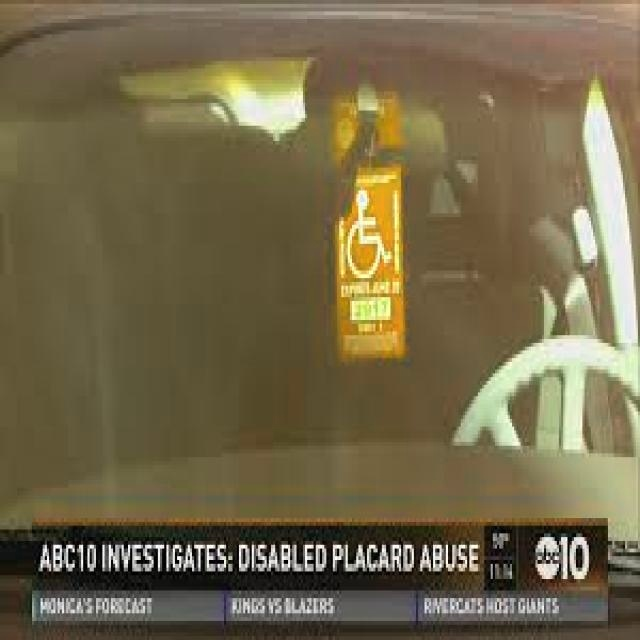ISA: (346, 184, 397, 294)
